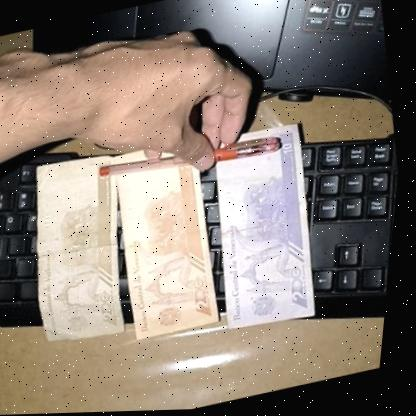vef_back: (199, 122, 340, 338), (15, 147, 156, 346), (105, 155, 237, 343)
